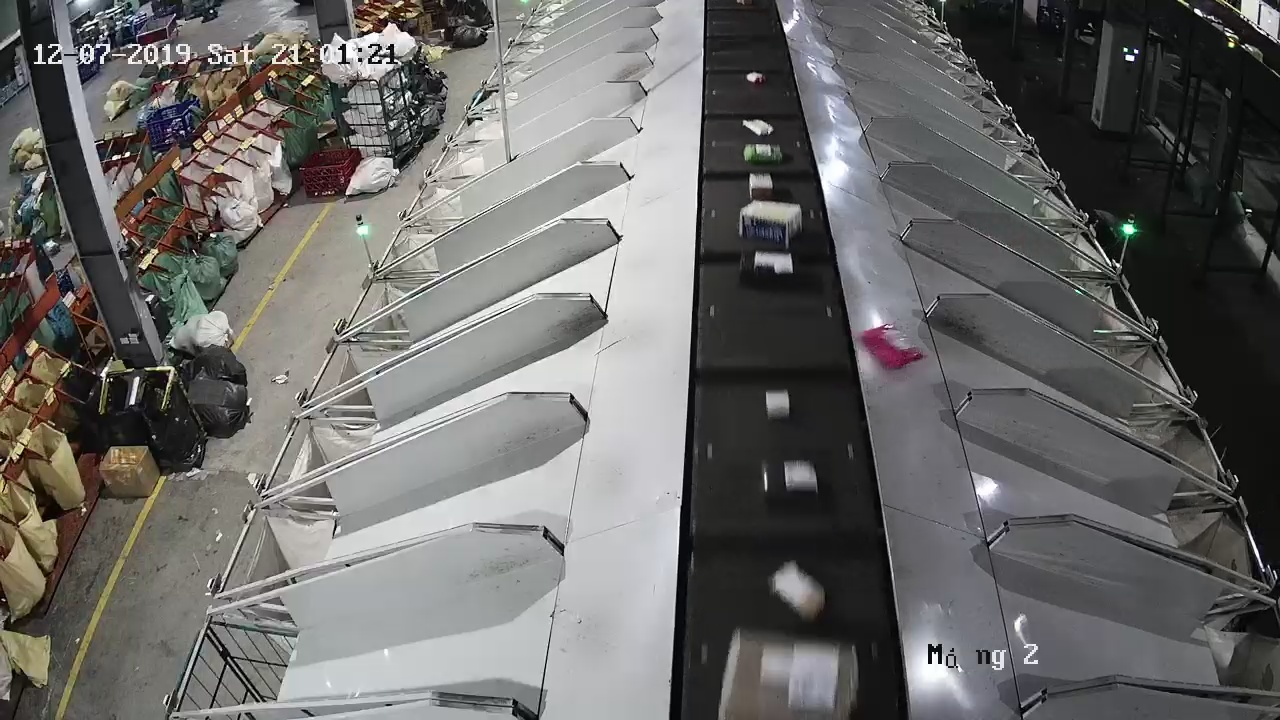parcel: (861, 323, 925, 371)
